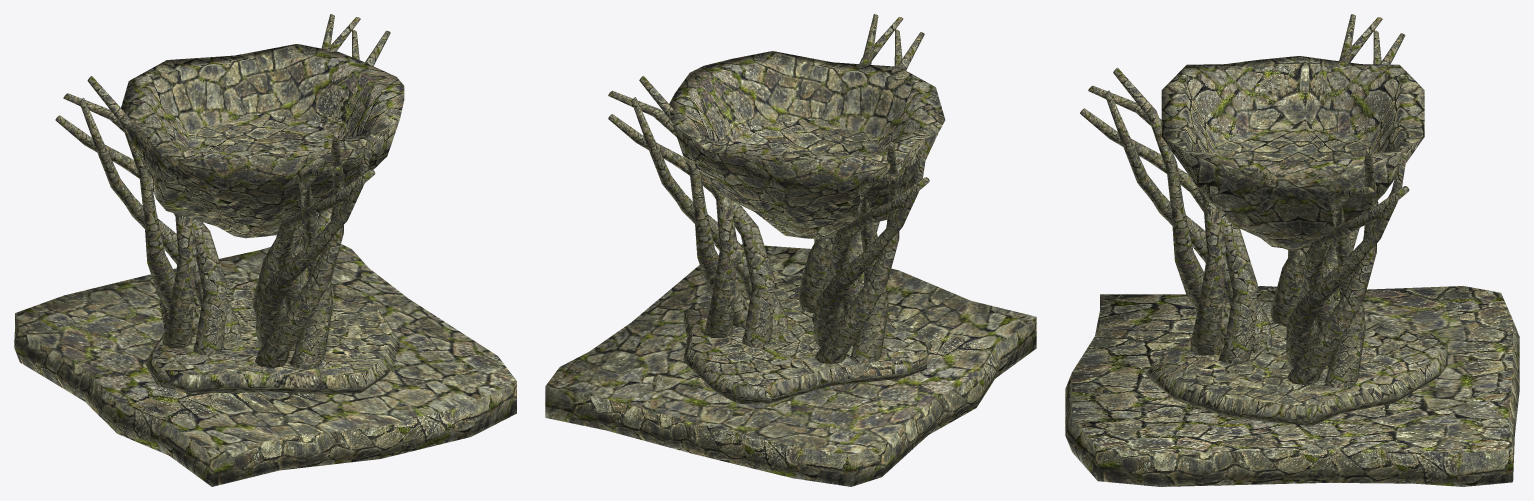
The model's file is PaganicAltar.FBX.
3 renders of one model, left to right at view 1: azimuth 30°, elevation 25°; view 2: azimuth 150°, elevation 25°; view 3: azimuth 270°, elevation 25°, orthographic. The views are drawn at different scales.
Parts seen in each view (by area): view 1: Box164, Box302; view 2: Box164, Box302; view 3: Box164, Box302.
Part boxes in pixels (bbox=[...]): Box164: bbox=[55, 14, 404, 393]; Box302: bbox=[14, 238, 516, 486]; Box164: bbox=[608, 14, 945, 403]; Box302: bbox=[545, 244, 1036, 486]; Box164: bbox=[1080, 14, 1447, 425]; Box302: bbox=[1065, 286, 1519, 486].
Bounding box in the file's own units: 55.59 × 48.73 × 61.54.
